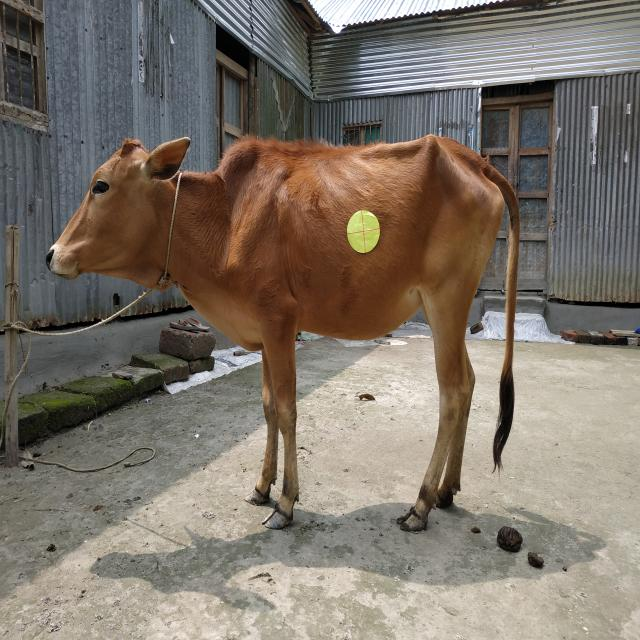badan_sapi: (227, 137, 505, 340)
sapi: (45, 127, 540, 532)
